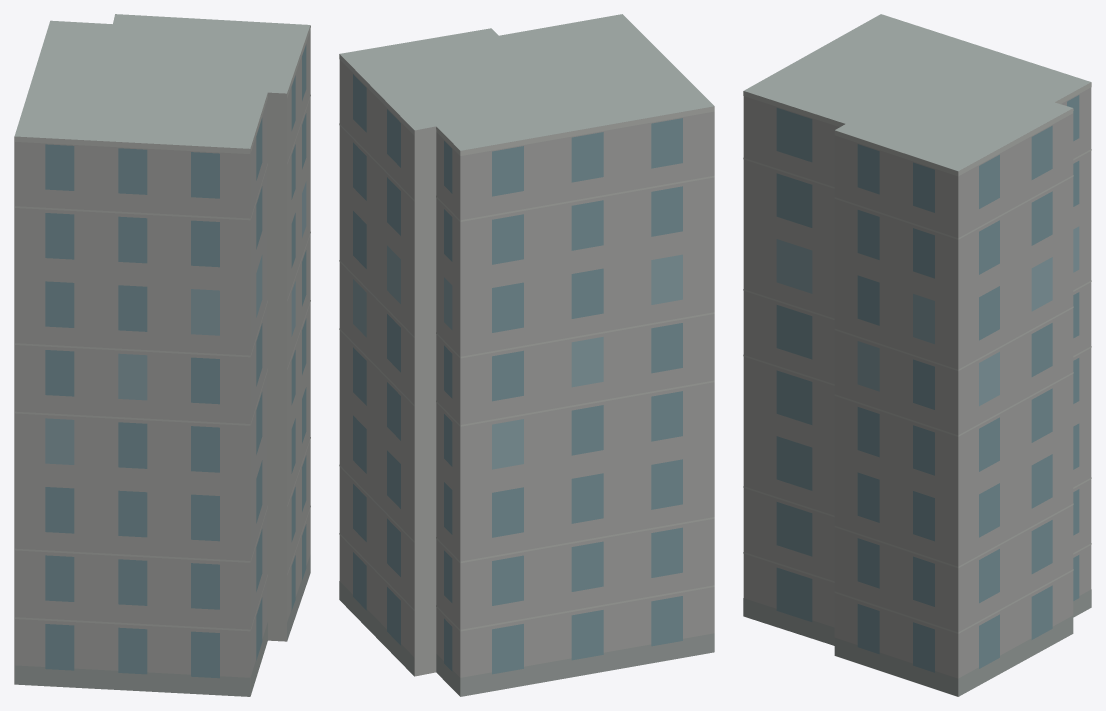
Rendered from survey-upis-32659842.glb.
The picture shows the model from 3 angles, left to right: view 1: azimuth 30°, elevation 25°; view 2: azimuth 150°, elevation 25°; view 3: azimuth 270°, elevation 25°; orthographic projection. The views are drawn at different scales.
Parts seen in each view (by area): view 1: survey-upis-32659842.tmp; view 2: survey-upis-32659842.tmp; view 3: survey-upis-32659842.tmp.
Part boxes in pixels (x1,y1,x2,y2): survey-upis-32659842.tmp: [14, 14, 310, 696]; survey-upis-32659842.tmp: [339, 14, 714, 696]; survey-upis-32659842.tmp: [743, 14, 1091, 696].
Size of the model in its own units: 16.17 by 25.15 by 15.11.
